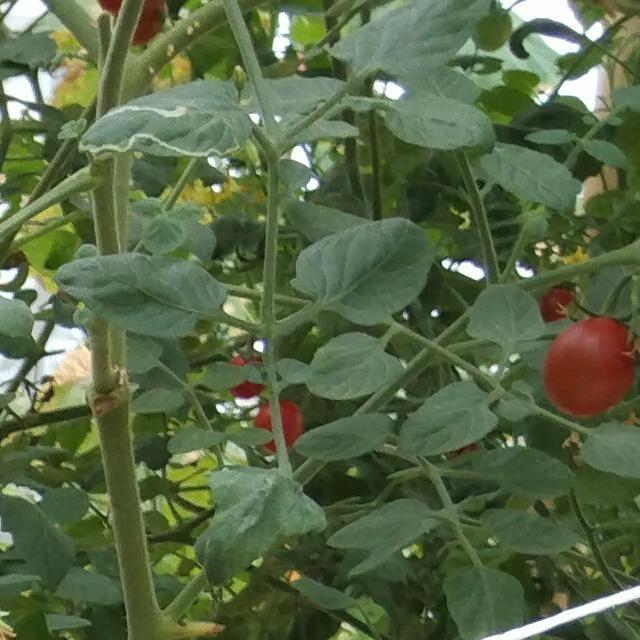Healthy: (288, 212, 437, 324), (57, 251, 228, 341), (323, 0, 493, 81), (322, 497, 436, 580), (396, 375, 502, 461), (478, 134, 585, 214), (378, 88, 498, 158), (0, 493, 78, 599), (437, 558, 527, 640), (289, 408, 396, 466), (463, 276, 547, 348), (479, 502, 582, 559)
Leaf_Miner: (77, 76, 254, 161)
